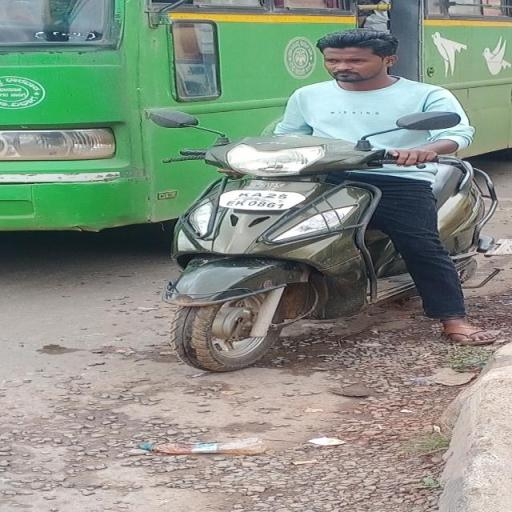bike: (152, 30, 504, 374)
numberplate: (222, 187, 296, 215)
withouthelmet: (321, 30, 392, 83)
